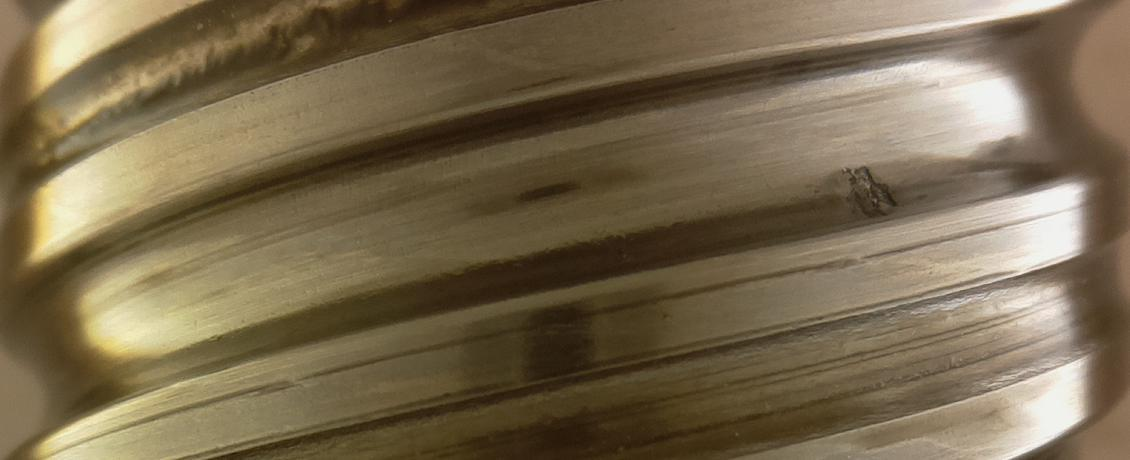pitting: (842, 165, 896, 218)
